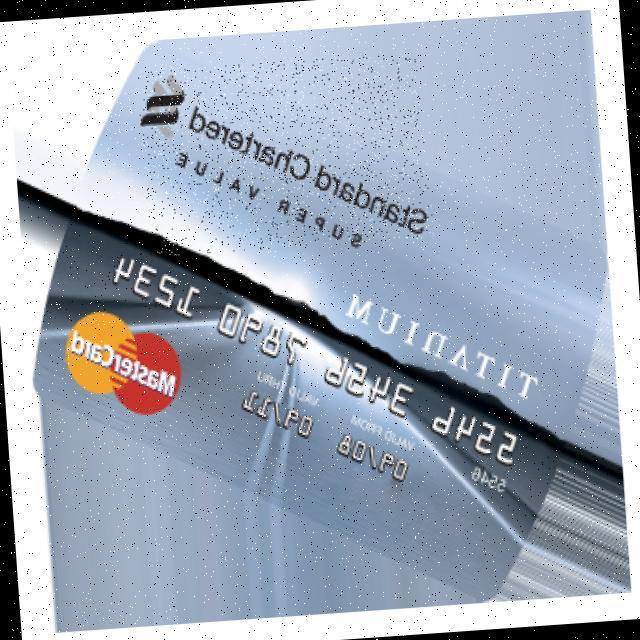Standard Chartered: (136, 52, 434, 257)
